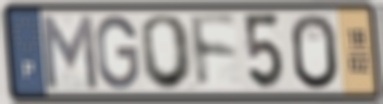5: (241, 10, 287, 93)
F: (187, 12, 241, 93)
G: (94, 13, 141, 92)
M: (35, 12, 101, 92)
O: (139, 12, 196, 93), (288, 11, 341, 92)
